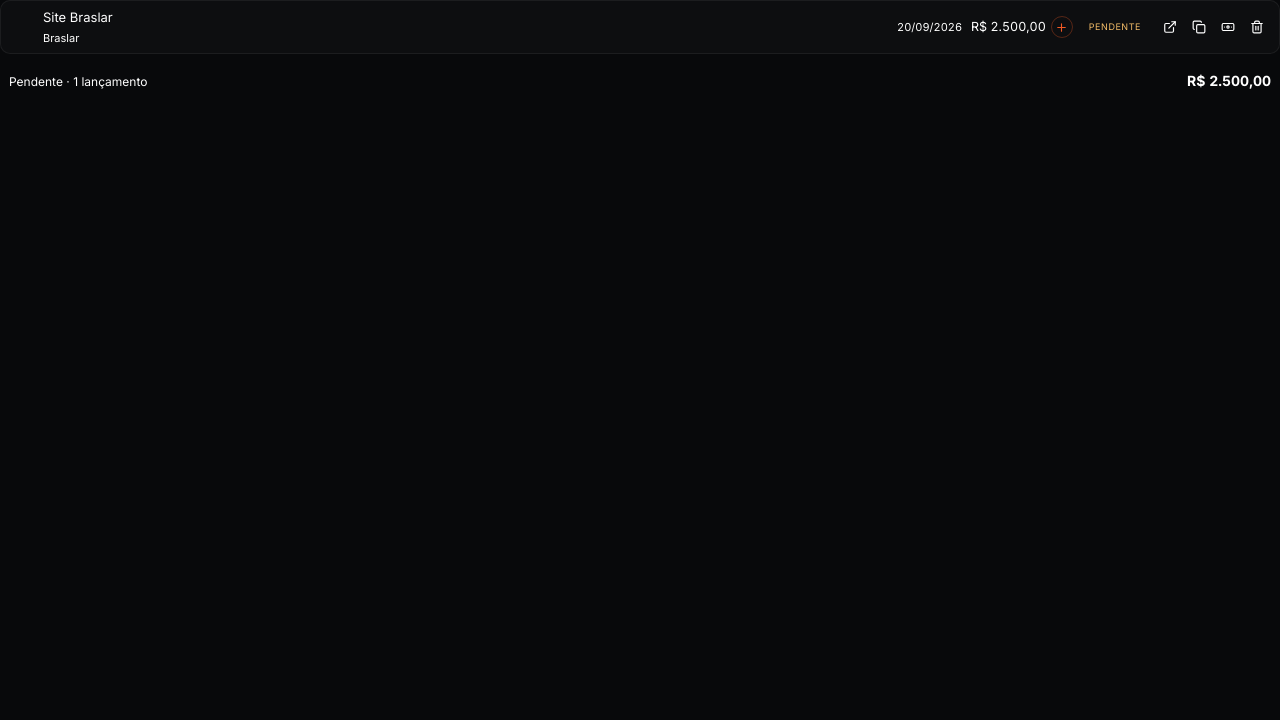
ProjectPaymentsList › desiste da baixa manual quando a confirmação é cancelada
Click the button named "Registrar pagamento por fora — Site Braslar".
click(1228, 27)  # box [1215,14,1241,40]
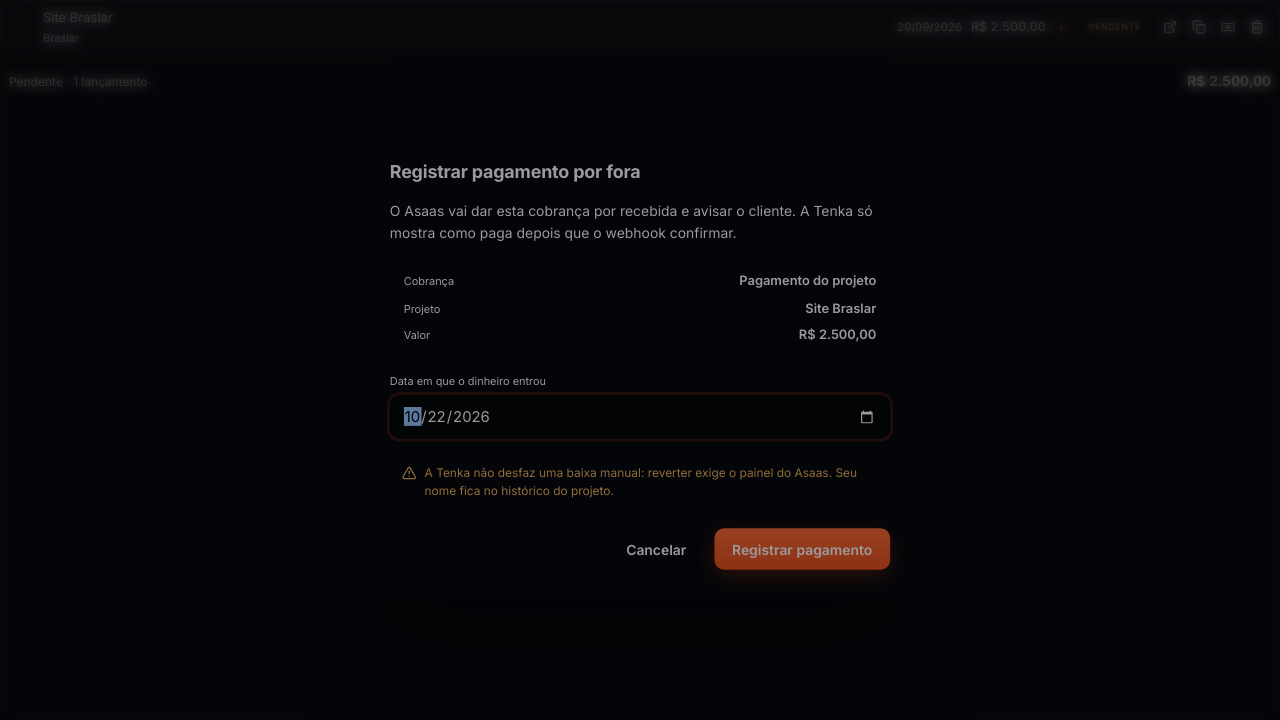
Click the button "Cancelar".
click(656, 550)  # box [608,529,704,570]
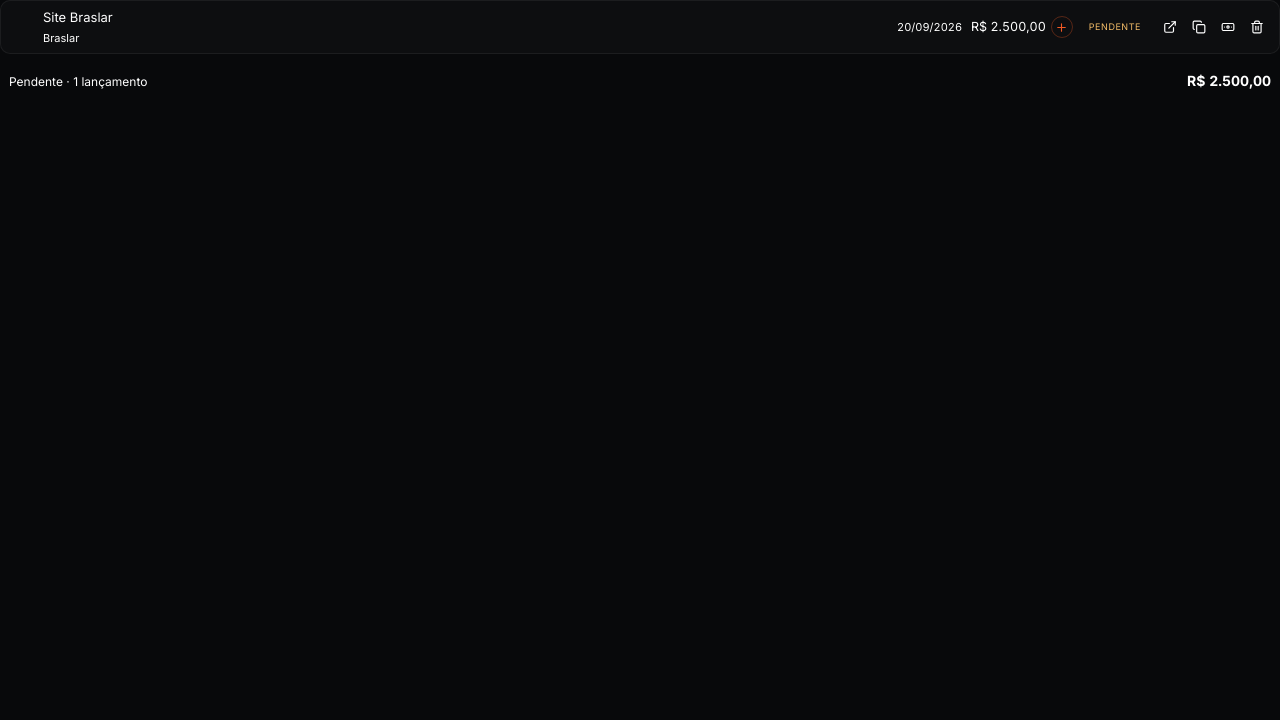
Expected: the heading "Registrar pagamento por fora" is gone
